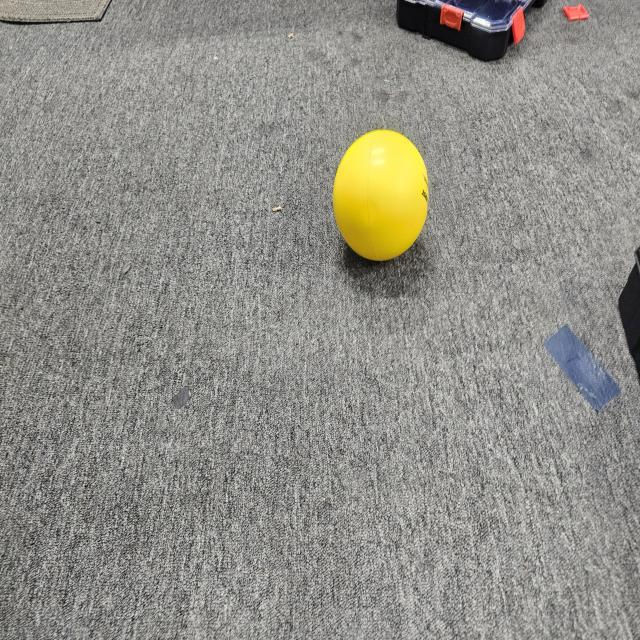Fuel: (328, 124, 434, 264)
